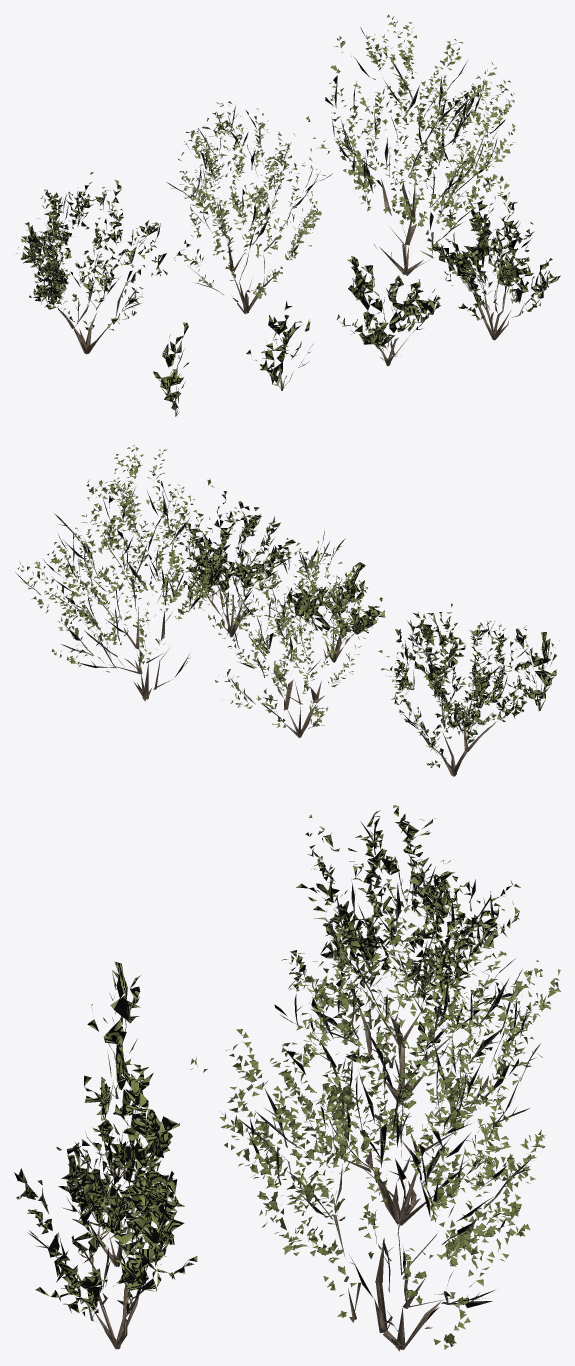
Rendered from searsia_lucida.glb.
The picture shows the model from 3 angles, top to bottom: view 1: azimuth 30°, elevation 25°; view 2: azimuth 150°, elevation 25°; view 3: azimuth 270°, elevation 25°; orthographic projection. The views are drawn at different scales.
Visible parts, largest first — view 1: searsia_lucida_a_LOD0, searsia_lucida_b_LOD0, searsia_lucida_c_LOD0, searsia_lucida_d_LOD0, searsia_lucida_e_LOD0, searsia_lucida_f_LOD0, searsia_lucida_g_LOD0; view 2: searsia_lucida_a_LOD0, searsia_lucida_b_LOD0, searsia_lucida_c_LOD0, searsia_lucida_d_LOD0, searsia_lucida_e_LOD0, searsia_lucida_f_LOD0, searsia_lucida_g_LOD0; view 3: searsia_lucida_a_LOD0, searsia_lucida_c_LOD0, searsia_lucida_b_LOD0, searsia_lucida_d_LOD0, searsia_lucida_e_LOD0, searsia_lucida_g_LOD0, searsia_lucida_f_LOD0.
Part boxes in pixels (x1=…): searsia_lucida_a_LOD0: x1=306, y1=14, x2=516, y2=275; searsia_lucida_b_LOD0: x1=166, y1=101, x2=332, y2=313; searsia_lucida_c_LOD0: x1=14, y1=172, x2=192, y2=354; searsia_lucida_d_LOD0: x1=427, y1=178, x2=560, y2=340; searsia_lucida_e_LOD0: x1=336, y1=256, x2=440, y2=366; searsia_lucida_f_LOD0: x1=246, y1=300, x2=313, y2=390; searsia_lucida_g_LOD0: x1=153, y1=322, x2=189, y2=416; searsia_lucida_a_LOD0: x1=15, y1=445, x2=264, y2=701; searsia_lucida_b_LOD0: x1=208, y1=530, x2=370, y2=737; searsia_lucida_c_LOD0: x1=378, y1=603, x2=559, y2=776; searsia_lucida_d_LOD0: x1=174, y1=491, x2=295, y2=637; searsia_lucida_e_LOD0: x1=279, y1=562, x2=385, y2=662; searsia_lucida_f_LOD0: x1=407, y1=611, x2=465, y2=683; searsia_lucida_g_LOD0: x1=516, y1=630, x2=556, y2=710; searsia_lucida_a_LOD0: x1=190, y1=948, x2=545, y2=1351; searsia_lucida_c_LOD0: x1=288, y1=805, x2=520, y2=1102; searsia_lucida_b_LOD0: x1=274, y1=865, x2=560, y2=1225; searsia_lucida_d_LOD0: x1=14, y1=1096, x2=197, y2=1349; searsia_lucida_e_LOD0: x1=56, y1=1059, x2=179, y2=1266; searsia_lucida_g_LOD0: x1=87, y1=961, x2=140, y2=1098; searsia_lucida_f_LOD0: x1=84, y1=1067, x2=161, y2=1182.
Size of the model in its own units: 4.75 by 2.28 by 2.8.
Materials: 3 (3 with a texture image).
